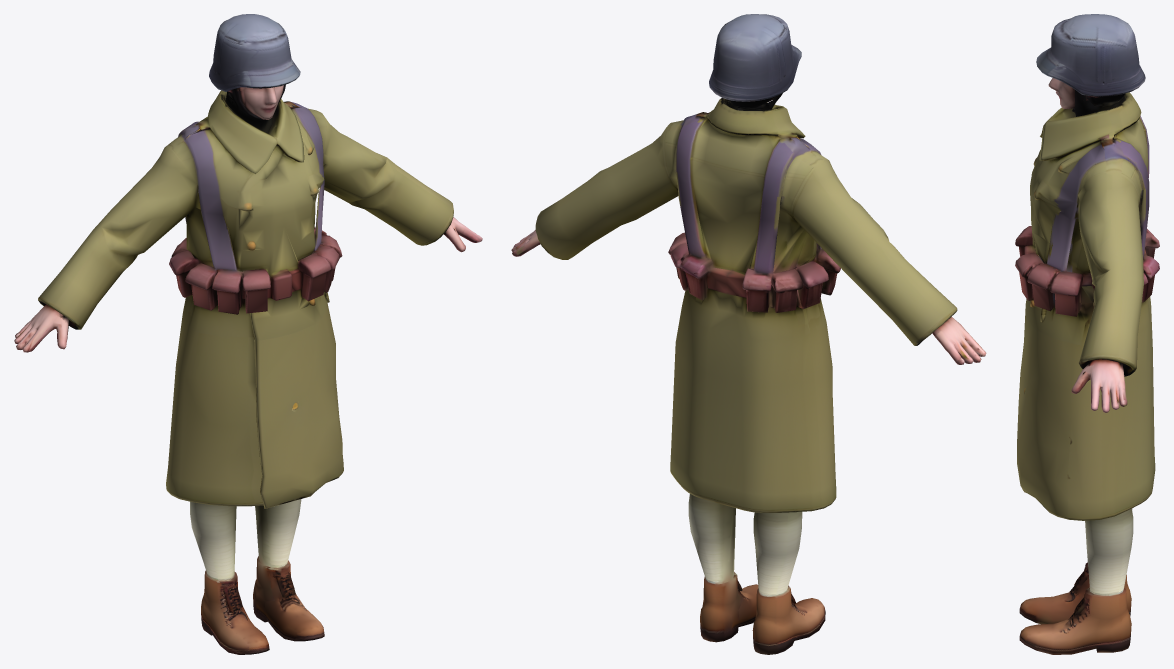
3 views of the same model, side by side, from view 1: azimuth 30°, elevation 25°; view 2: azimuth 150°, elevation 25°; view 3: azimuth 270°, elevation 25° (orthographic).
Visible parts, largest first — view 1: part_00000001, part_00000002; view 2: part_00000001, part_00000002; view 3: part_00000001, part_00000002.
Boxes of the visible parts, x1,y1,x2,y2 form: part_00000001: (14, 14, 482, 641); part_00000002: (190, 501, 269, 654); part_00000001: (511, 14, 986, 642); part_00000002: (752, 512, 825, 654); part_00000001: (1015, 14, 1159, 654); part_00000002: (1019, 508, 1132, 624).
Bounding box in the file's own units: 93.88 × 118 × 25.24.
1 material, 1 textured.
